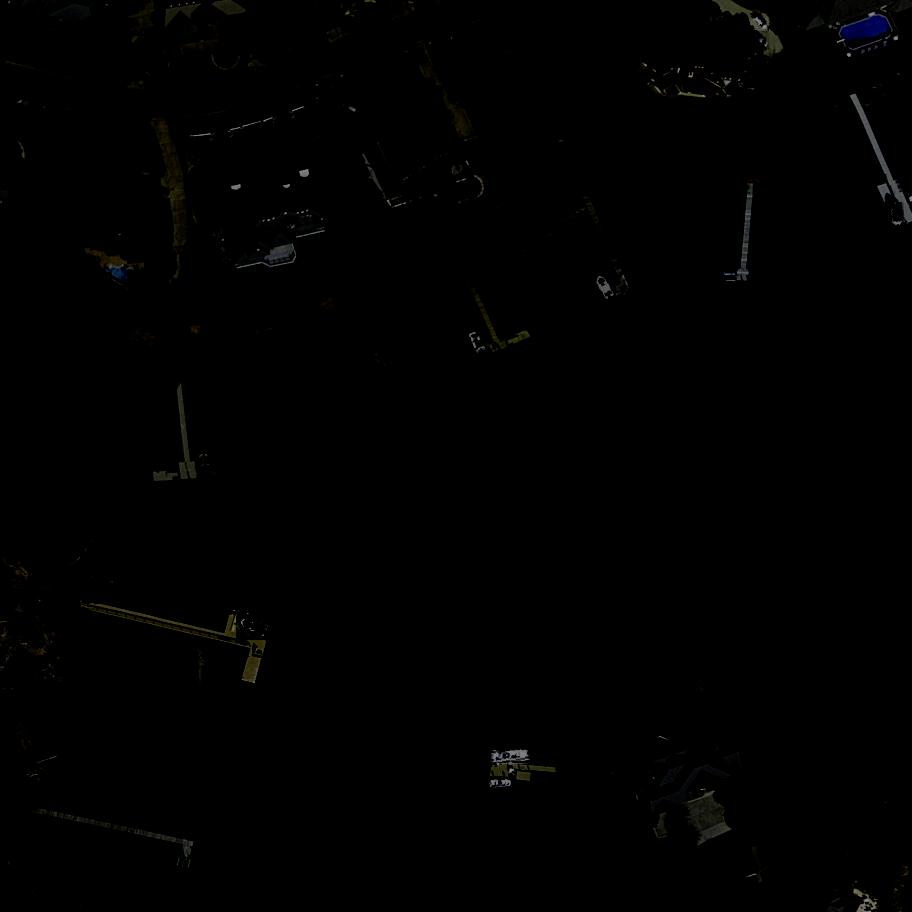ship: (236, 615, 274, 642), (488, 747, 533, 765), (591, 274, 617, 305), (468, 328, 491, 357), (890, 202, 904, 228), (487, 779, 515, 791), (198, 452, 211, 477)
small-vehicle: (750, 13, 772, 35), (748, 31, 770, 51), (339, 99, 361, 118)
